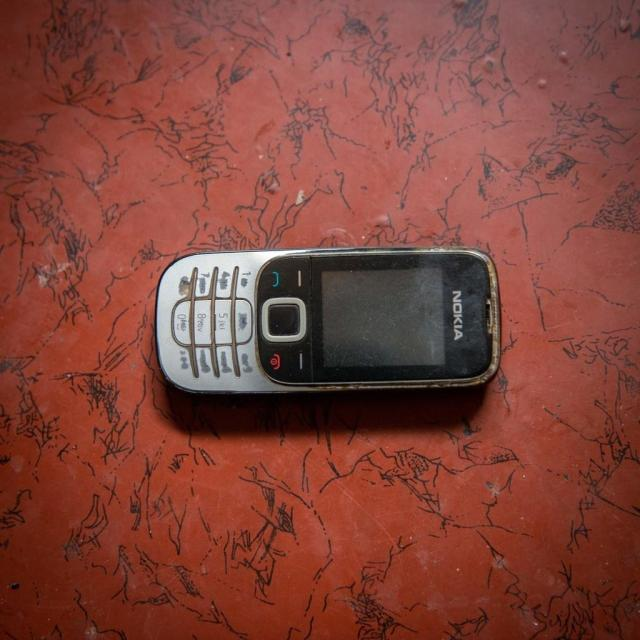Phone: (155, 244, 506, 401)
